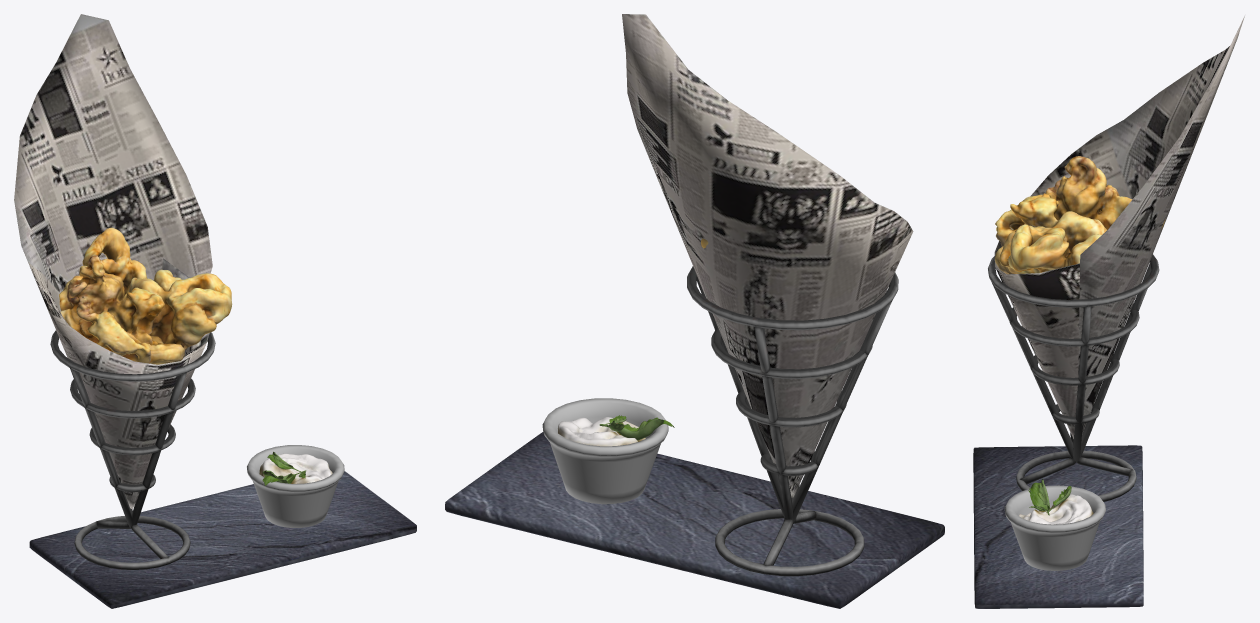
The model's file is calamari-draco.glb.
The picture shows the model from 3 angles, left to right: view 1: azimuth 30°, elevation 25°; view 2: azimuth 150°, elevation 25°; view 3: azimuth 270°, elevation 25°; orthographic projection. The views are drawn at different scales.
Visible parts, largest first — view 1: Cone001.002, Plane001.002, CALAMARES2_9, Circle002.002, Cone003.002, Group3309.002, Group7233.002; view 2: Cone001.002, Plane001.002, Circle002.002, Cone003.002, Group3309.002, Group7233.002; view 3: Cone001.002, Plane001.002, Circle002.002, CALAMARES2_9, Cone003.002, Group3309.002, Group7233.002.
Boxes of the visible parts, bbox=[...] form: Cone001.002: bbox=[14, 14, 212, 508]; Plane001.002: bbox=[29, 471, 416, 608]; CALAMARES2_9: bbox=[59, 227, 232, 364]; Circle002.002: bbox=[50, 330, 215, 569]; Cone003.002: bbox=[247, 445, 344, 527]; Group3309.002: bbox=[259, 453, 332, 483]; Group7233.002: bbox=[262, 451, 306, 485]; Cone001.002: bbox=[622, 14, 913, 497]; Plane001.002: bbox=[445, 432, 944, 608]; Circle002.002: bbox=[687, 266, 898, 576]; Cone003.002: bbox=[542, 398, 668, 504]; Group3309.002: bbox=[558, 417, 645, 446]; Group7233.002: bbox=[599, 415, 674, 440]; Cone001.002: bbox=[994, 16, 1244, 438]; Plane001.002: bbox=[973, 445, 1143, 608]; Circle002.002: bbox=[988, 254, 1159, 501]; CALAMARES2_9: bbox=[995, 156, 1165, 274]; Cone003.002: bbox=[1004, 485, 1105, 570]; Group3309.002: bbox=[1019, 494, 1093, 524]; Group7233.002: bbox=[1028, 478, 1071, 515].
Bounding box in the file's own units: 0.9011 × 1.25 × 0.6269.
2 materials, 2 textured.
